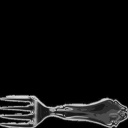fork: (2, 77, 128, 128)
